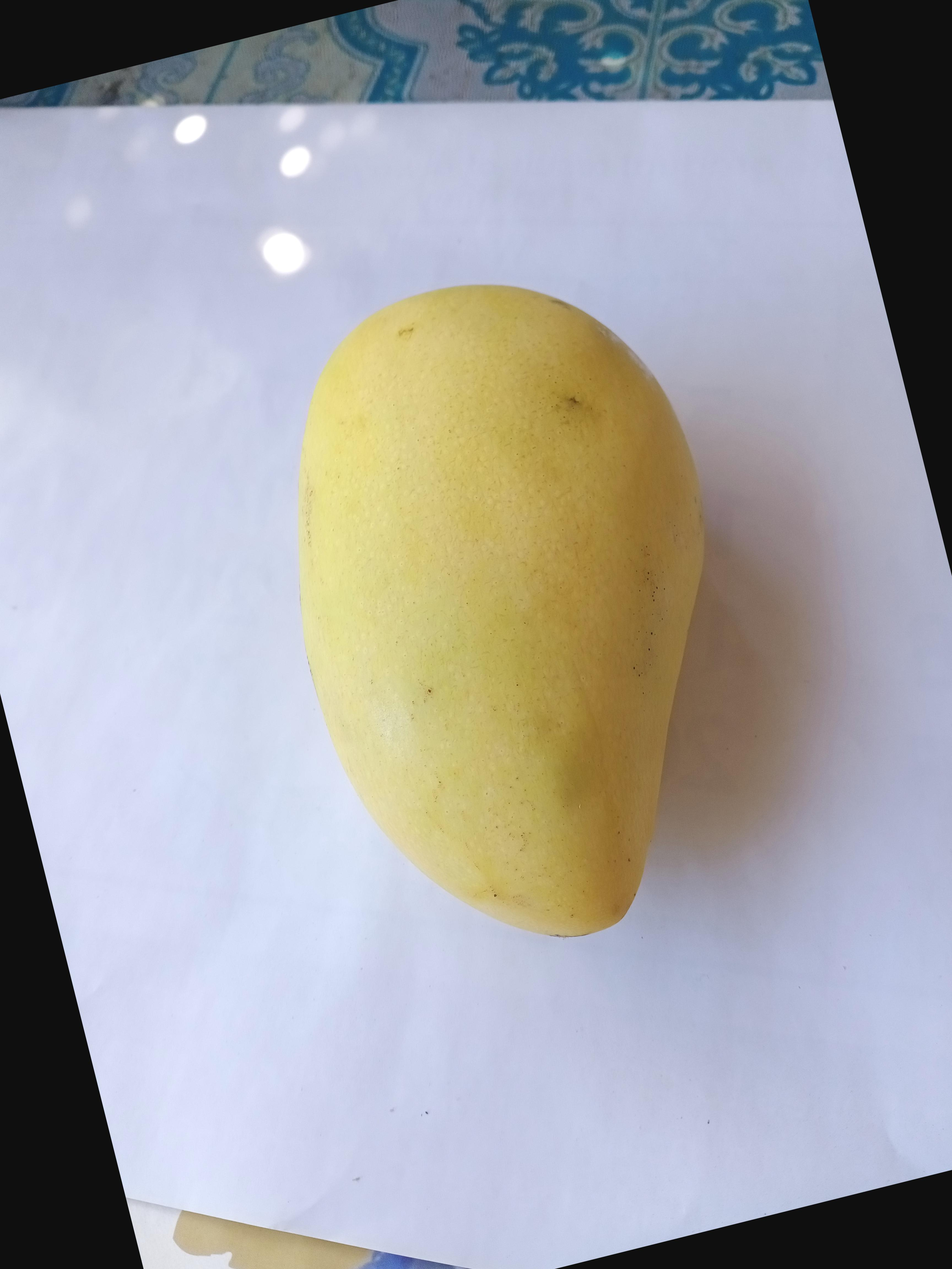Mango Ripe: (7, 343, 657, 1213)
